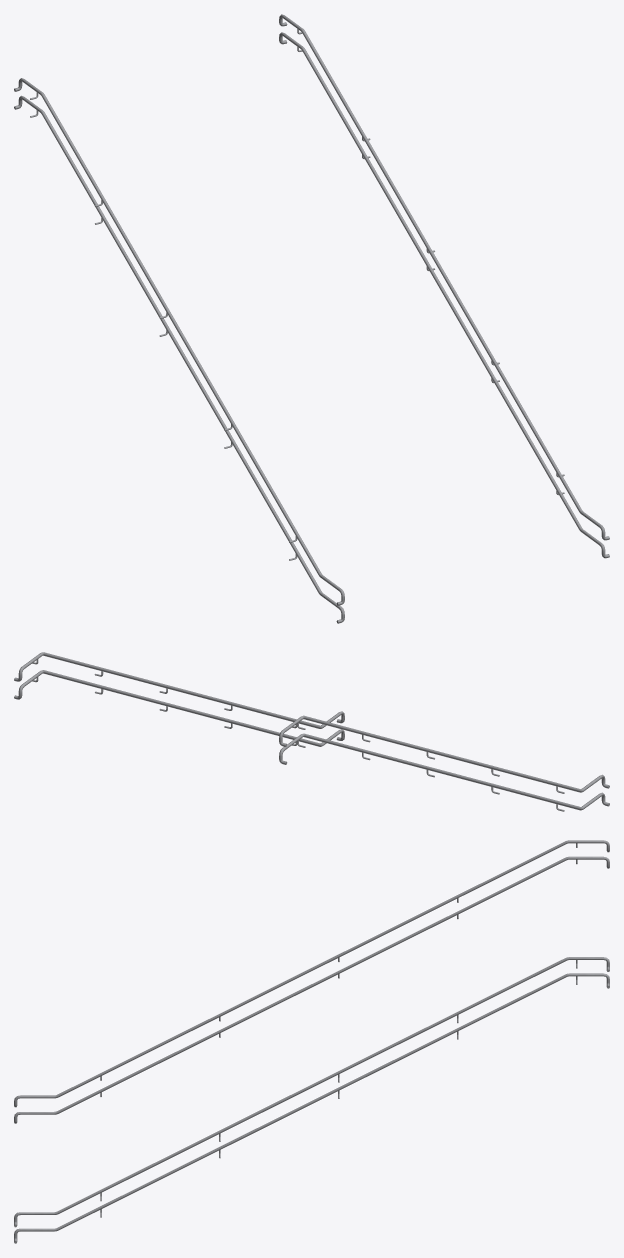
The model's file is gteki_ik_stair_n19_r164_t298_w3008_rails_wall.glb.
3 views of the same model, one above another, from view 1: azimuth 30°, elevation 25°; view 2: azimuth 150°, elevation 25°; view 3: azimuth 270°, elevation 25° (orthographic). The views are drawn at different scales.
Visible parts, largest first — view 1: VIS_handrails; view 2: VIS_handrails, VIS_rail_supports; view 3: VIS_handrails.
Part boxes in pixels (box(x1,y1,x2,y2)): VIS_handrails: box(14, 14, 609, 623); VIS_handrails: box(14, 652, 609, 810); VIS_rail_supports: box(32, 659, 564, 811); VIS_handrails: box(14, 840, 609, 1243).
Bounding box in the file's own units: 3.23 × 3.47 × 6.6.
Materials: 1 (1 with a texture image).
